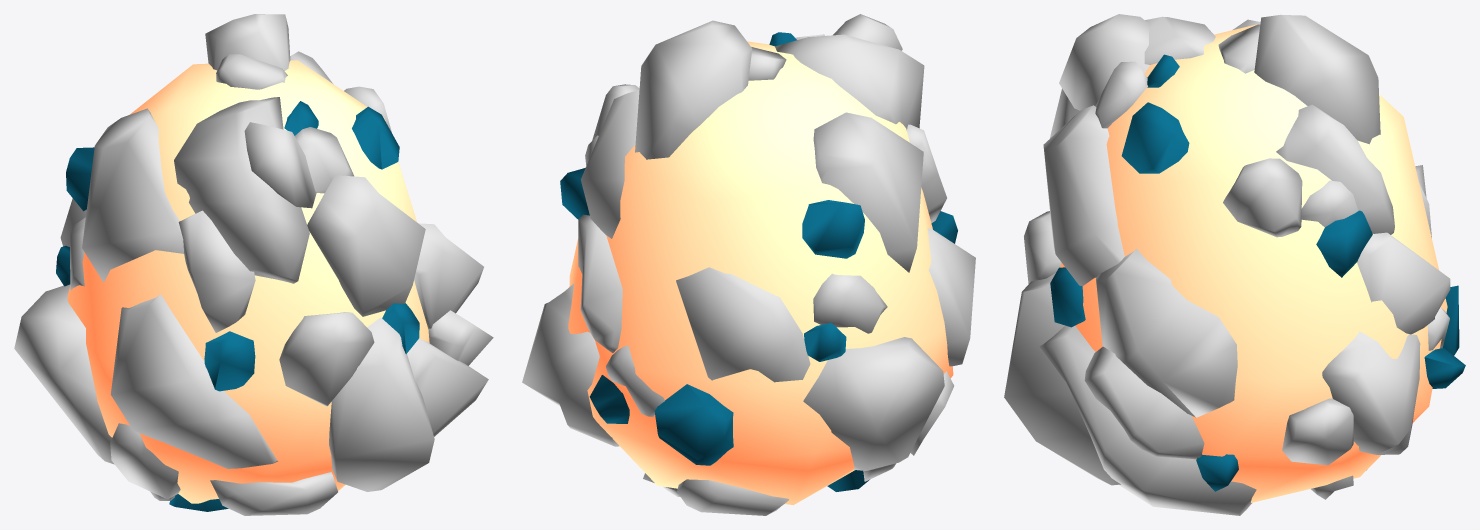
File: eff_meshparticles_residueore01.fbx
3 renders of one model, left to right at view 1: azimuth 30°, elevation 25°; view 2: azimuth 150°, elevation 25°; view 3: azimuth 270°, elevation 25°, orthographic. The views are drawn at different scales.
Parts seen in each view (by area): view 1: shell_lp.002, core_lp.002, minerals_lp.002; view 2: shell_lp.002, core_lp.002, minerals_lp.002; view 3: shell_lp.002, core_lp.002, minerals_lp.002.
Boxes of the visible parts, x1,y1,x2,y2 form: shell_lp.002: [14, 14, 493, 515]; core_lp.002: [67, 60, 429, 503]; minerals_lp.002: [56, 101, 419, 511]; shell_lp.002: [522, 14, 975, 515]; core_lp.002: [568, 41, 953, 505]; minerals_lp.002: [560, 32, 957, 491]; shell_lp.002: [1004, 14, 1450, 515]; core_lp.002: [1060, 24, 1447, 502]; minerals_lp.002: [1050, 54, 1465, 491].
Size of the model in its own units: 2 by 2.28 by 1.99.
